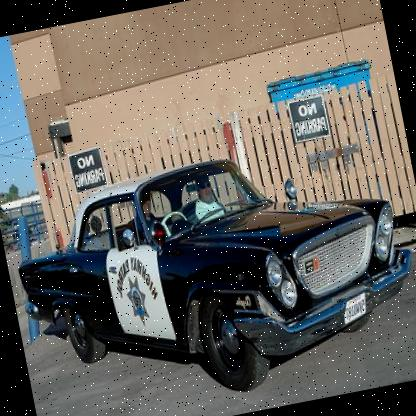car: (2, 120, 416, 416)
